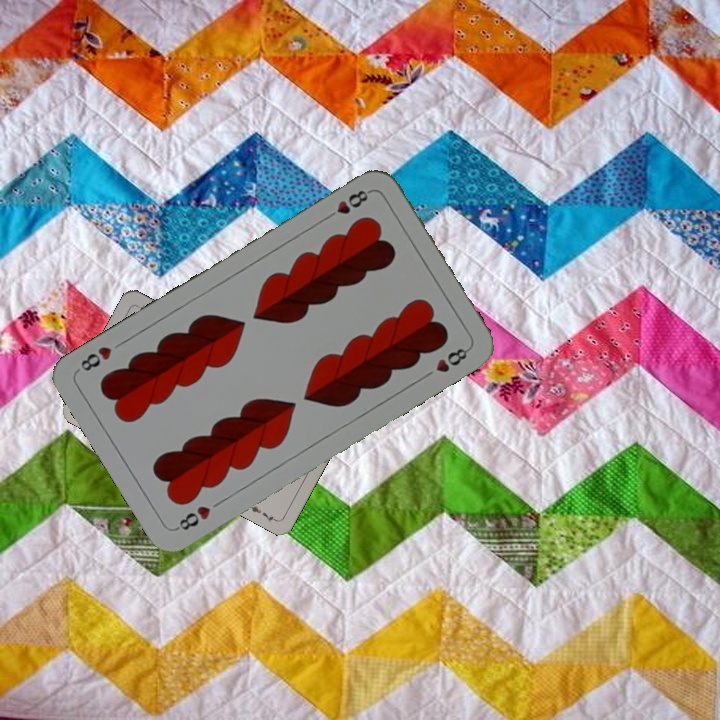H8: (321, 185, 374, 223), (171, 501, 214, 533)
